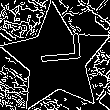L_W: (30, 42, 83, 77)
